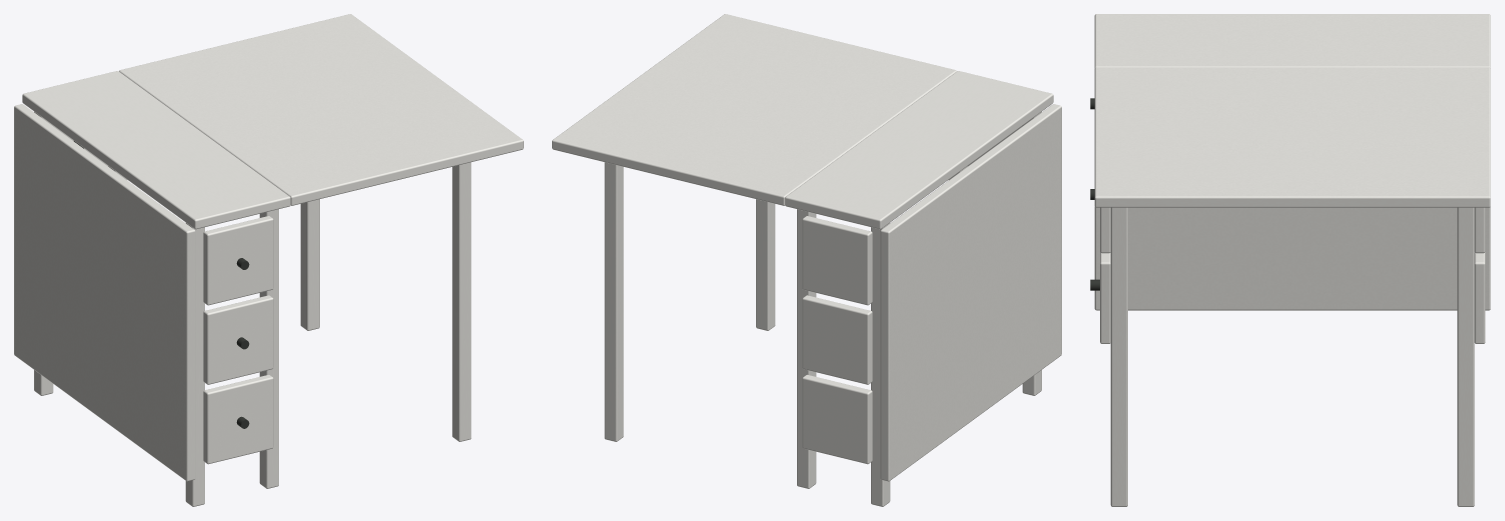
File: norden.glb
3 views of the same model, side by side, from view 1: azimuth 30°, elevation 25°; view 2: azimuth 150°, elevation 25°; view 3: azimuth 270°, elevation 25° (orthographic). The views are drawn at different scales.
Visible parts, largest first — view 1: NORDEN Gateleg table, one leaf open; view 2: NORDEN Gateleg table, one leaf open; view 3: NORDEN Gateleg table, one leaf open.
Boxes of the visible parts, x1,y1,x2,y2 form: NORDEN Gateleg table, one leaf open: [14, 14, 523, 506]; NORDEN Gateleg table, one leaf open: [552, 14, 1061, 506]; NORDEN Gateleg table, one leaf open: [1090, 14, 1490, 506].
Bounding box in the file's own units: 0.89 × 0.74 × 0.8.
Materials: 2 (2 with a texture image).
